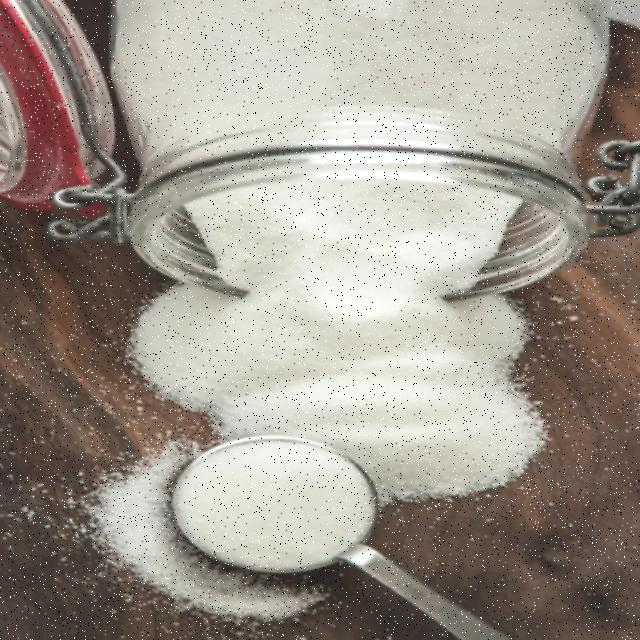Sugar: (230, 210, 454, 403), (211, 458, 336, 543), (57, 477, 166, 574)
